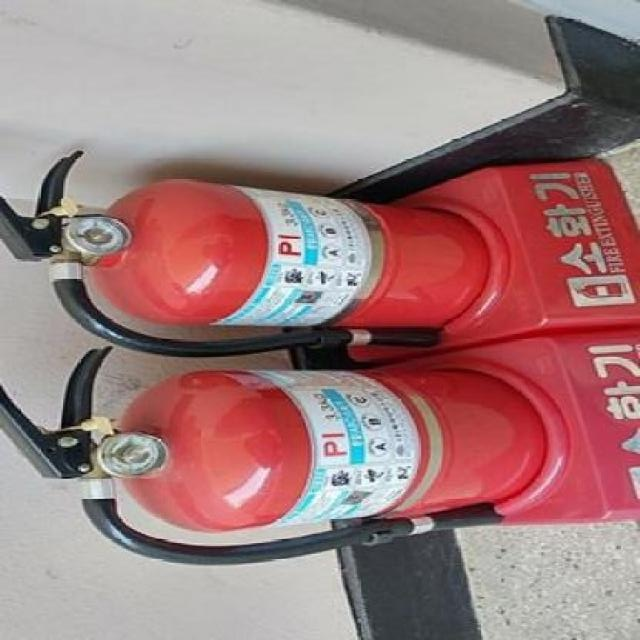fire extinguisher: (0, 346, 548, 566), (0, 150, 486, 358)
